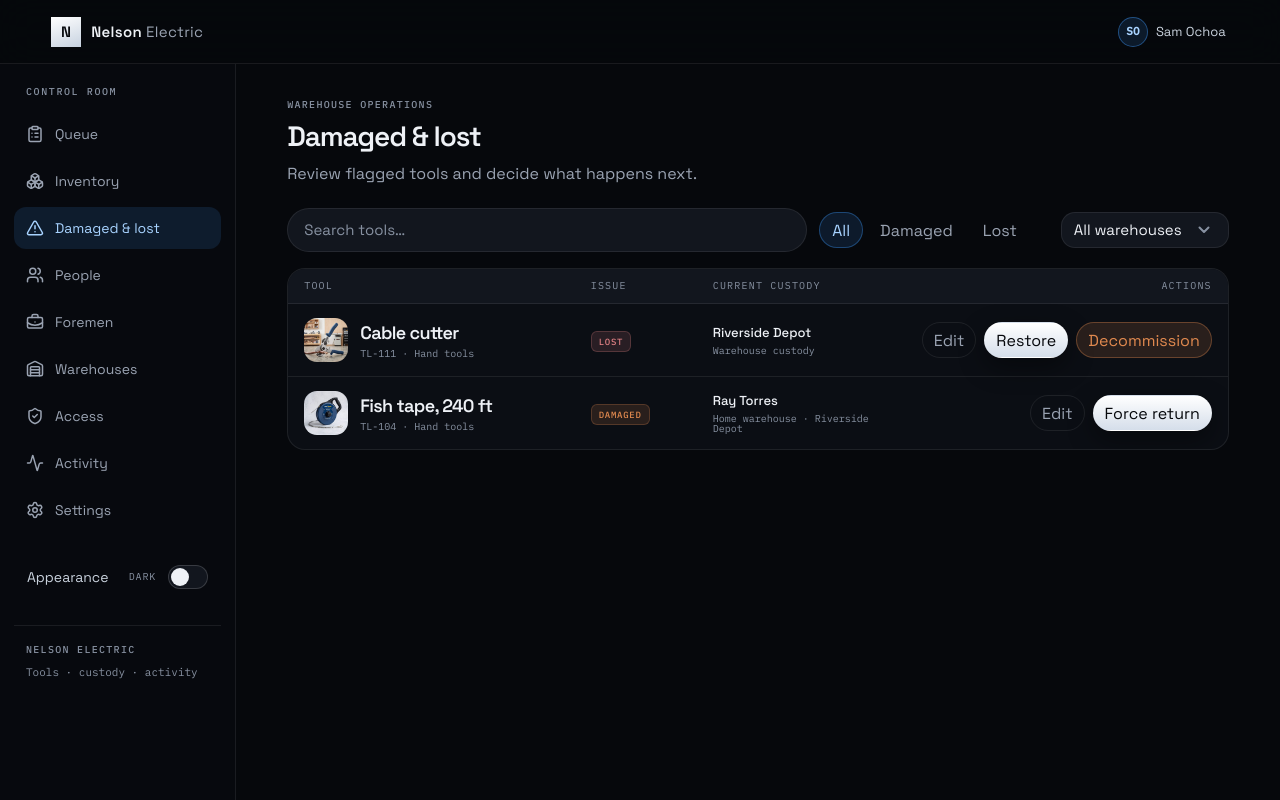
Test: flagged tool decision actions › keeps an edit draft mounted when its command fails
Click the button "Edit" in the row of "Home warehouse · Riverside Depot" at (1057, 413), box [1030, 395, 1085, 431]
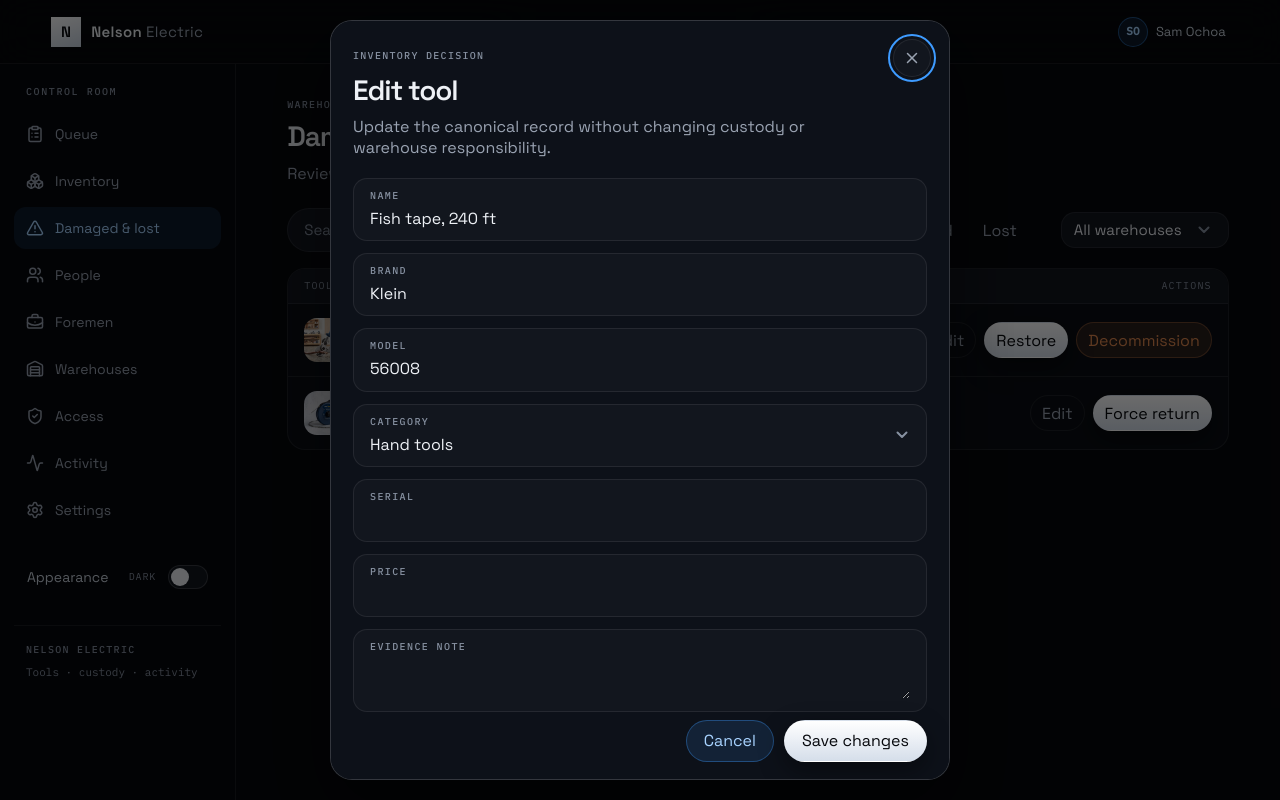
Click the button "Save changes" at (856, 740), box [784, 720, 927, 762]
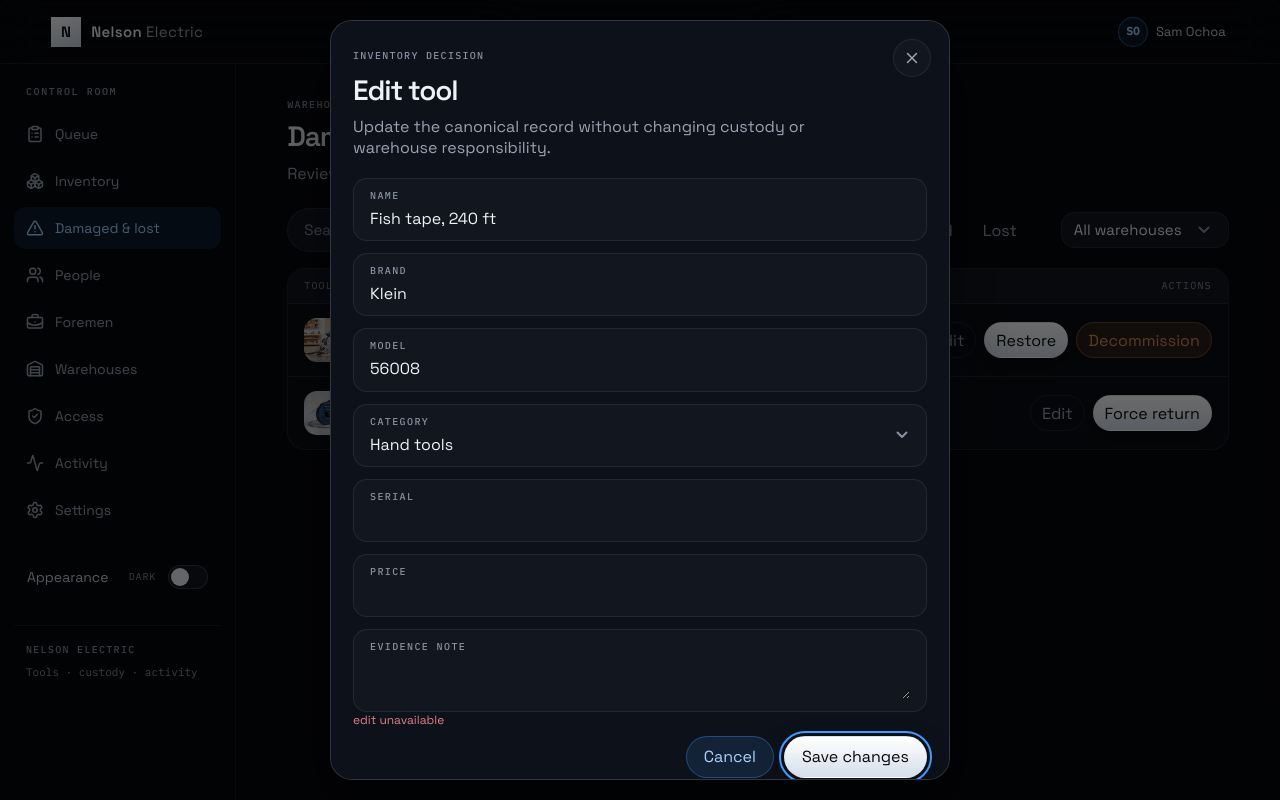
Result: the dialog named "Edit Fish tape" is shown at [330, 20, 950, 780]
Result: the button "Save changes" is enabled at [784, 736, 927, 778]
Result: the text "edit unavailable" is shown at [353, 712, 444, 728]
